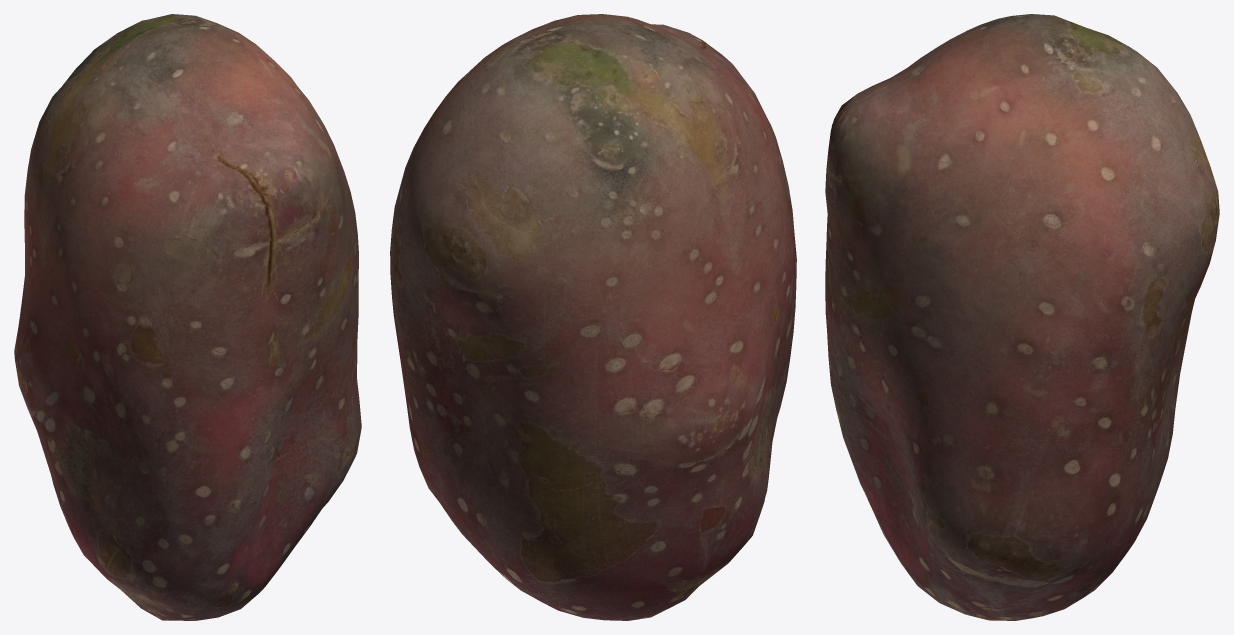
Rendered from sweet_potato.glb.
3 views of the same model, side by side, from view 1: azimuth 30°, elevation 25°; view 2: azimuth 150°, elevation 25°; view 3: azimuth 270°, elevation 25° (orthographic). The views are drawn at different scales.
Visible parts, largest first — view 1: sweet_potato; view 2: sweet_potato; view 3: sweet_potato.
Part boxes in pixels (<box>): sweet_potato: <box>14,14,361,620</box>; sweet_potato: <box>390,14,796,620</box>; sweet_potato: <box>825,14,1219,620</box>.
Size of the model in its own units: 0.0581 by 0.1005 by 0.061.
Materials: 1 (1 with a texture image).
